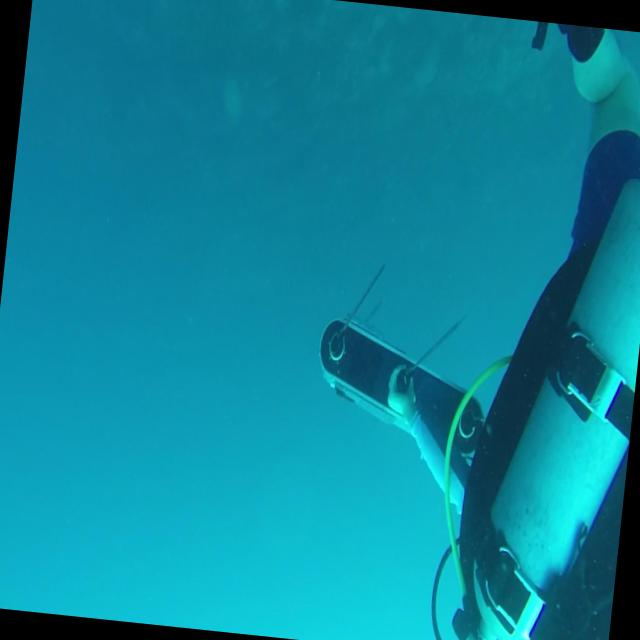human: (289, 2, 640, 640)
